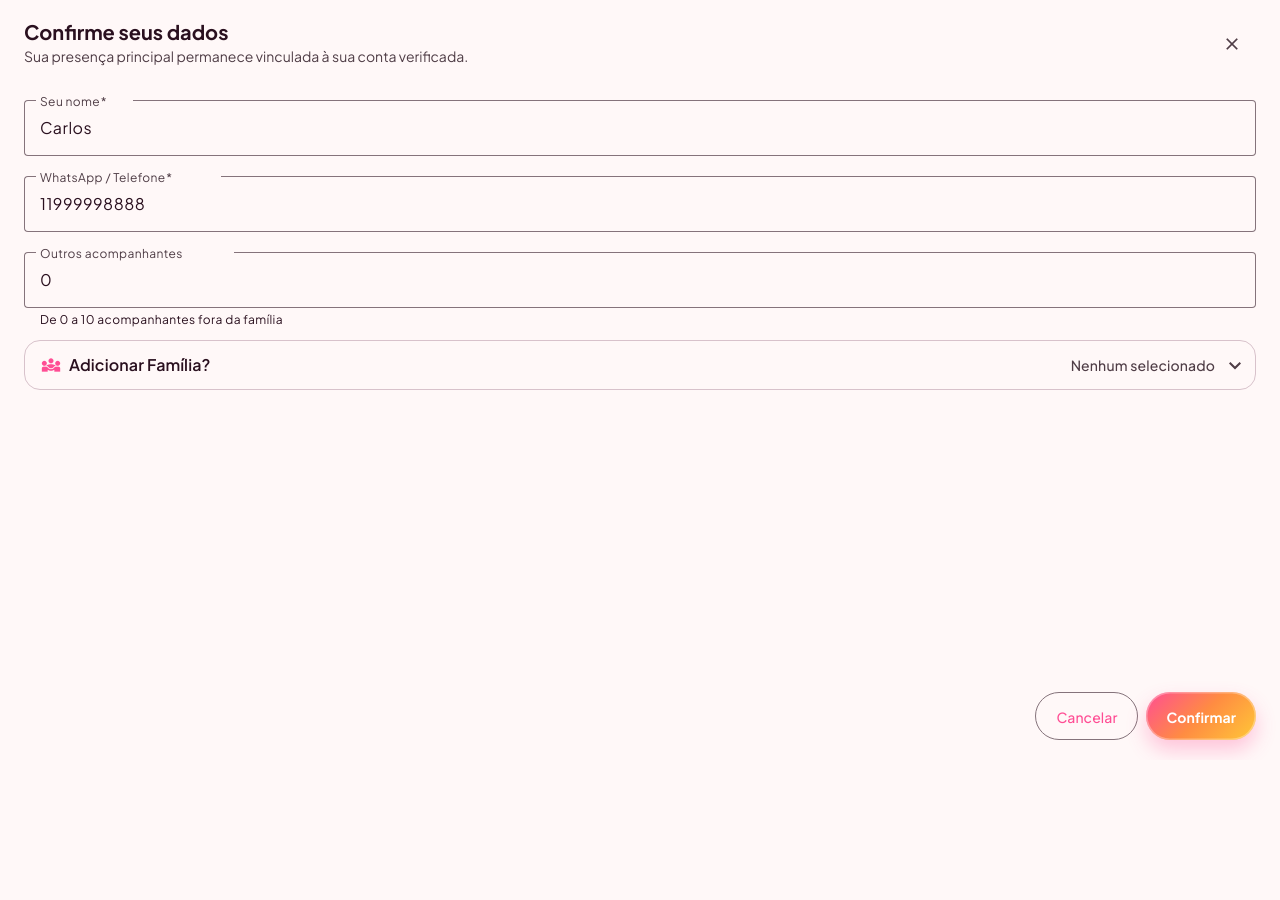
RsvpDrawerComponent › rejects a companion count greater than ten
Replace the text in the number field with test id "rsvp-companions-input" with "11" at (640, 280), box x1=40 y1=268 x2=1240 y2=292
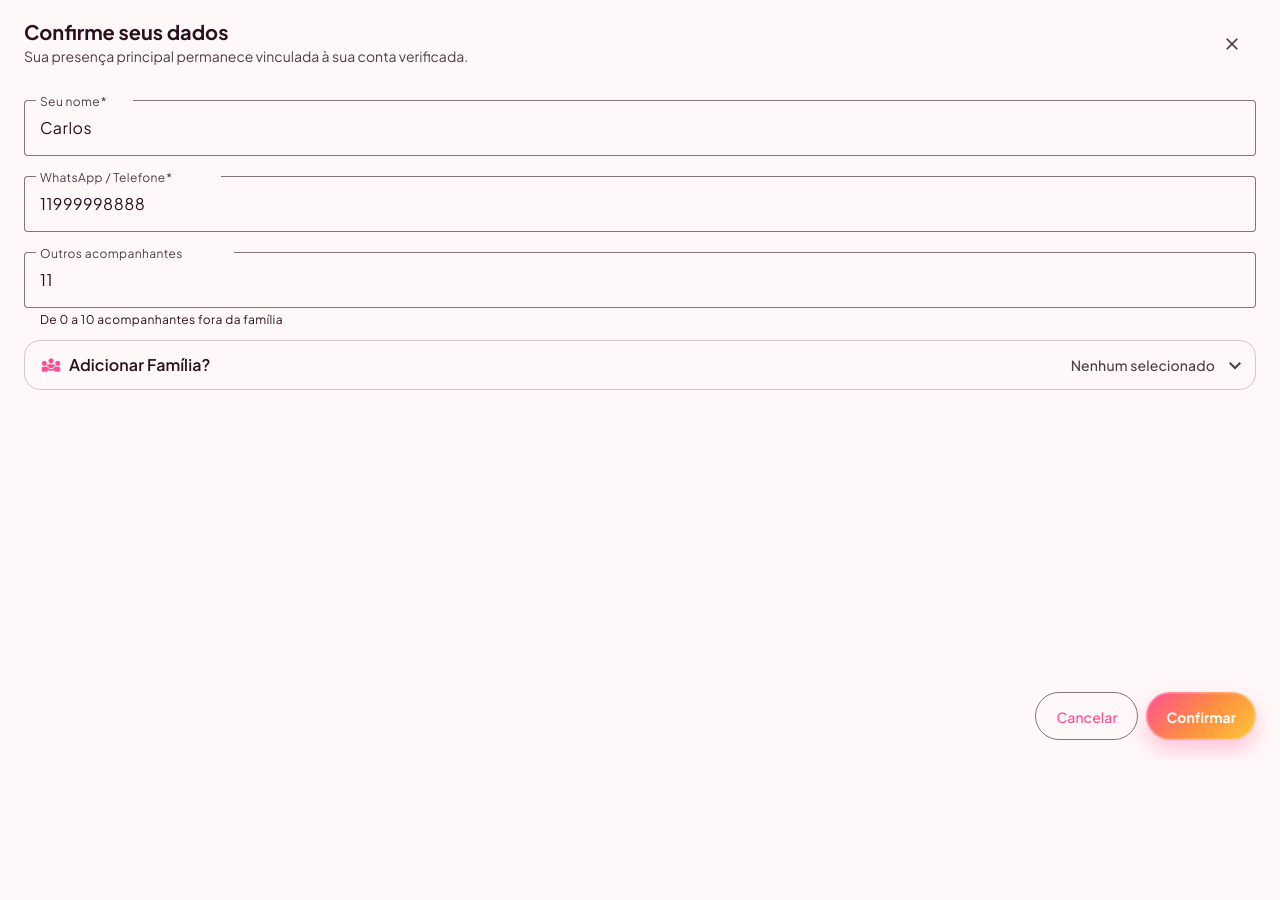
Click the button "Confirmar".
click(1201, 716)  # box x1=1146 y1=692 x2=1256 y2=740
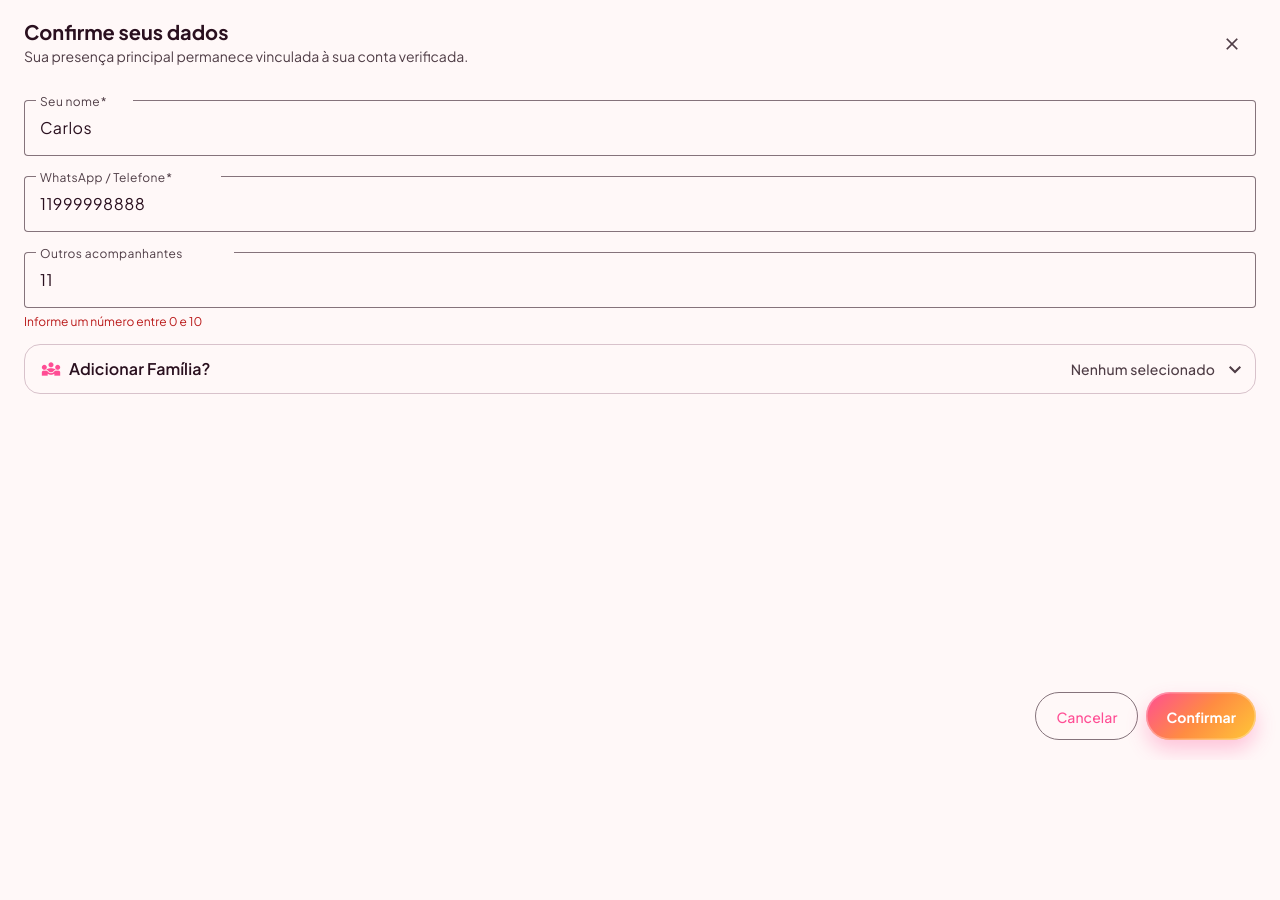
Check: the text "Informe um número entre 0 e 10" is shown, box x1=24 y1=314 x2=202 y2=329
